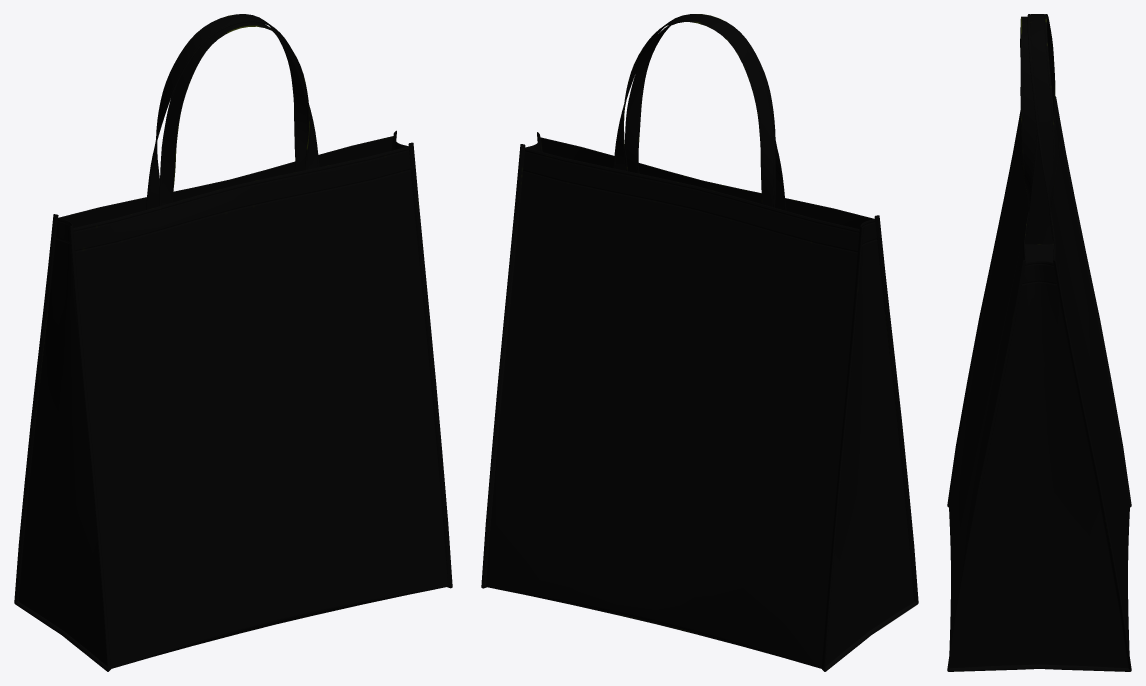
Rendered from bag_0.glb.
3 views of the same model, side by side, from view 1: azimuth 30°, elevation 25°; view 2: azimuth 150°, elevation 25°; view 3: azimuth 270°, elevation 25° (orthographic).
Parts seen in each view (by area): view 1: node_id101; view 2: node_id101; view 3: node_id101.
Part boxes in pixels (<box>): node_id101: <box>14,14,452,671</box>; node_id101: <box>481,14,918,671</box>; node_id101: <box>947,14,1131,671</box>.
Bounding box in the file's own units: 0.3194 × 0.512 × 0.1506.
1 material, 1 textured.
